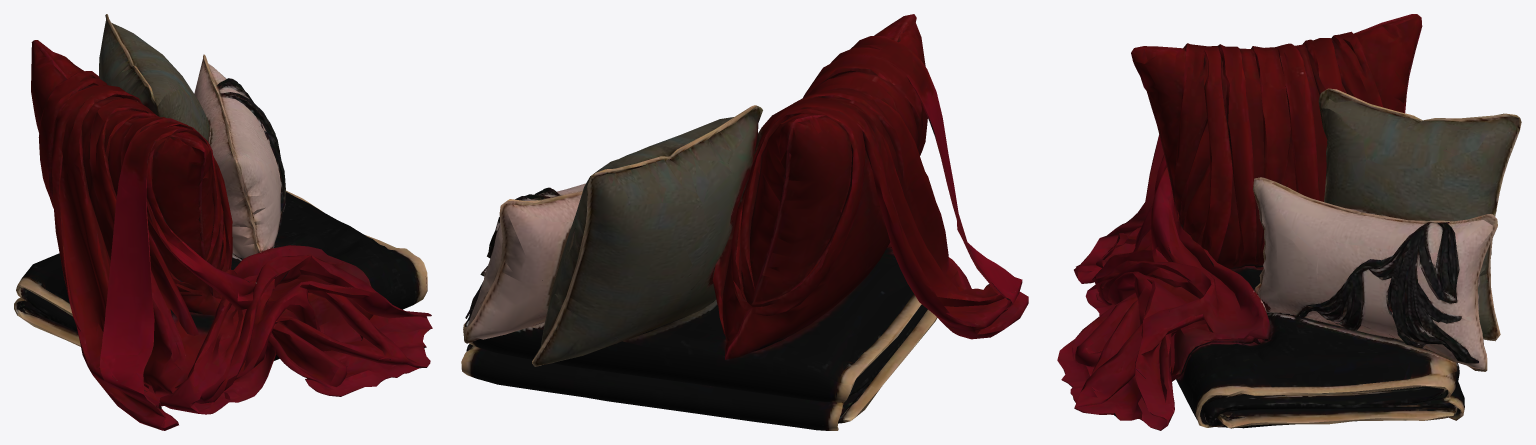
The model's file is NX-12_textiles_game.glb.
3 renders of one model, left to right at view 1: azimuth 30°, elevation 25°; view 2: azimuth 150°, elevation 25°; view 3: azimuth 270°, elevation 25°, orthographic. The views are drawn at different scales.
Parts seen in each view (by area): view 1: NX-12_textiles; view 2: NX-12_textiles; view 3: NX-12_textiles.
Part boxes in pixels (x1,y1,x2,y2): NX-12_textiles: (14,14,432,430); NX-12_textiles: (461,14,1028,430); NX-12_textiles: (1057,14,1521,430).
Size of the model in its own units: 0.593 by 0.4308 by 0.6507.
Materials: 1 (1 with a texture image).
